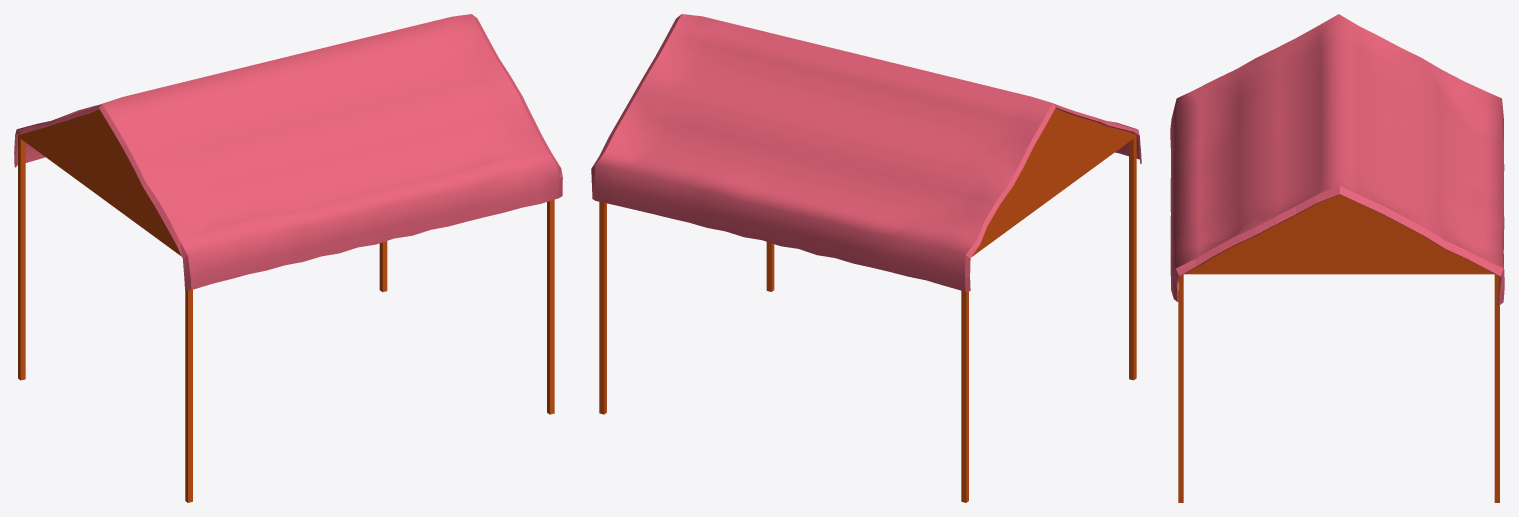
The model's file is toldo.fbx.
3 renders of one model, left to right at view 1: azimuth 30°, elevation 25°; view 2: azimuth 150°, elevation 25°; view 3: azimuth 270°, elevation 25°, orthographic. The views are drawn at different scales.
Parts seen in each view (by area): view 1: Box105; view 2: Box105; view 3: Box105.
Part boxes in pixels (box(x1,y1,x2,y2)): Box105: box(14, 14, 562, 502); Box105: box(591, 14, 1141, 502); Box105: box(1170, 14, 1504, 502).
Size of the model in its own units: 7.32 by 6.24 by 5.9.
